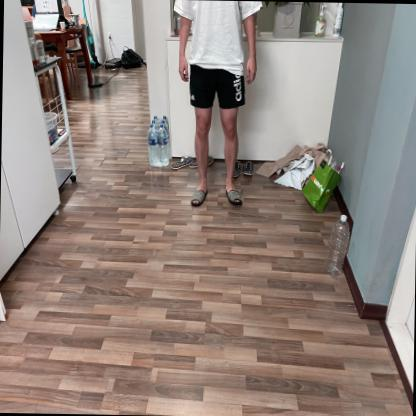no_safety-shoe: (220, 178, 249, 213), (188, 176, 212, 212)
